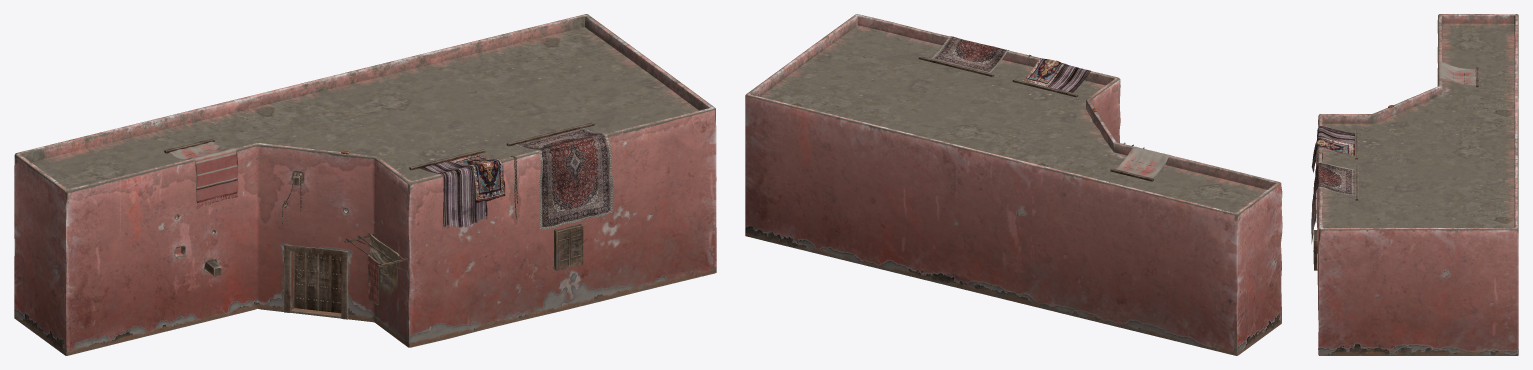
Rendered from xi_oam_building_entrance.gltf.
3 renders of one model, left to right at view 1: azimuth 30°, elevation 25°; view 2: azimuth 150°, elevation 25°; view 3: azimuth 270°, elevation 25°, orthographic. The views are drawn at different scales.
Parts seen in each view (by area): view 1: xi_oam_building_entrance; view 2: xi_oam_building_entrance; view 3: xi_oam_building_entrance.
Boxes of the visible parts, <box> form: xi_oam_building_entrance: <box>14,14,716,355</box>; xi_oam_building_entrance: <box>745,14,1282,355</box>; xi_oam_building_entrance: <box>1311,14,1518,355</box>.
Size of the model in its own units: 17.66 by 4.89 by 7.17.
4 materials, 4 textured.
